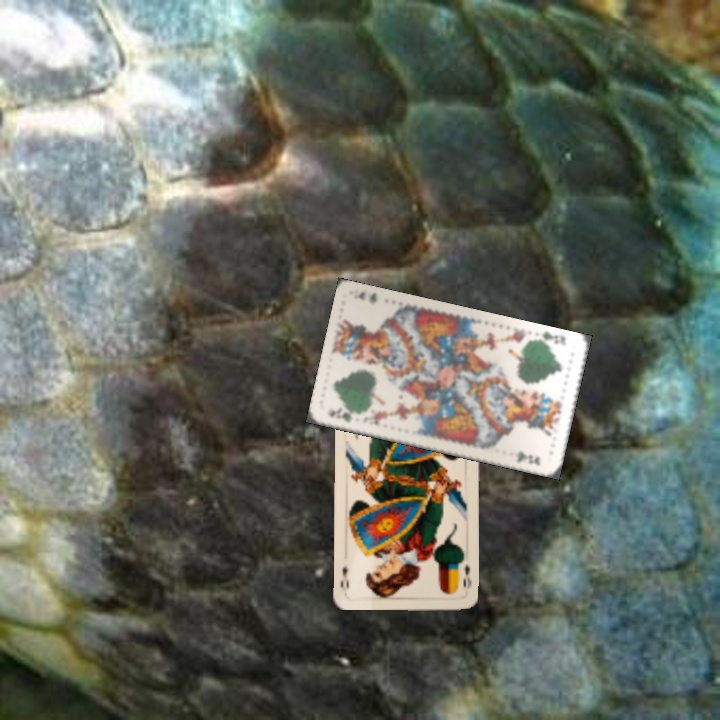EO: (459, 560, 474, 591)
GK: (324, 405, 364, 425), (533, 328, 568, 350)
